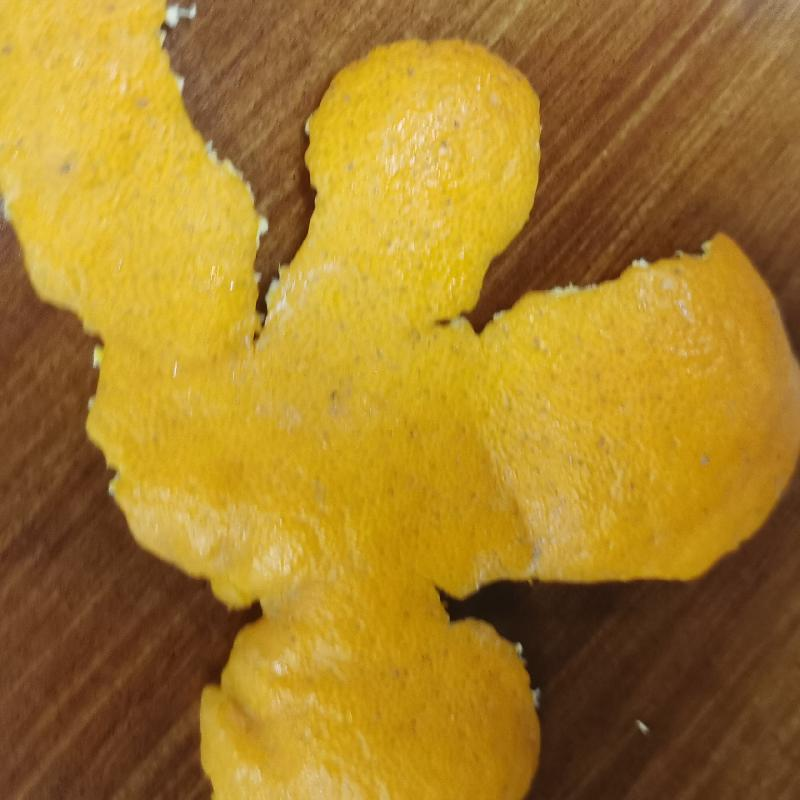orange: (9, 4, 785, 799)
